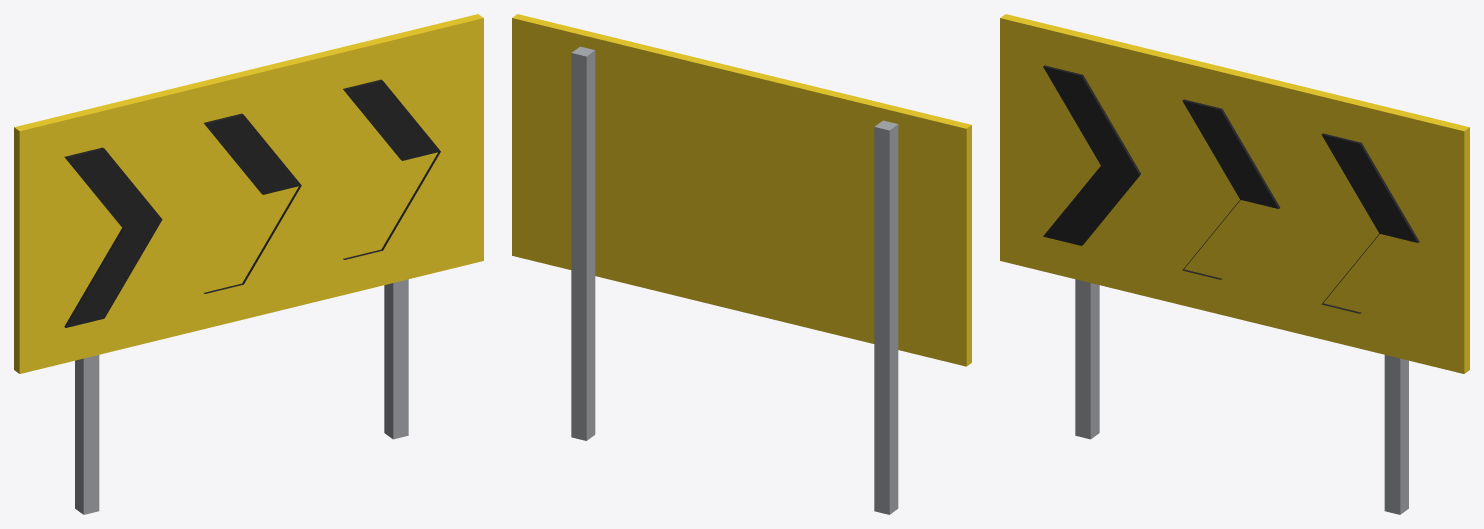
The model's file is sign.glb.
The picture shows the model from 3 angles, left to right: view 1: azimuth 30°, elevation 25°; view 2: azimuth 150°, elevation 25°; view 3: azimuth 330°, elevation 25°; orthographic projection. The views are drawn at different scales.
Visible parts, largest first — view 1: sign; view 2: sign; view 3: sign.
Boxes of the visible parts, box(x1,y1,x2,y2) form: sign: box(14, 14, 483, 514); sign: box(512, 14, 971, 514); sign: box(1000, 14, 1469, 514).
Size of the model in its own units: 2.4 by 2 by 0.145.
